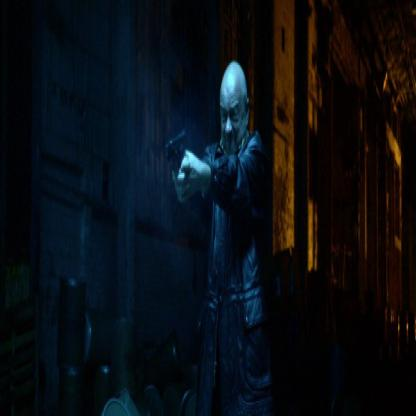Guns: (164, 123, 189, 198)
